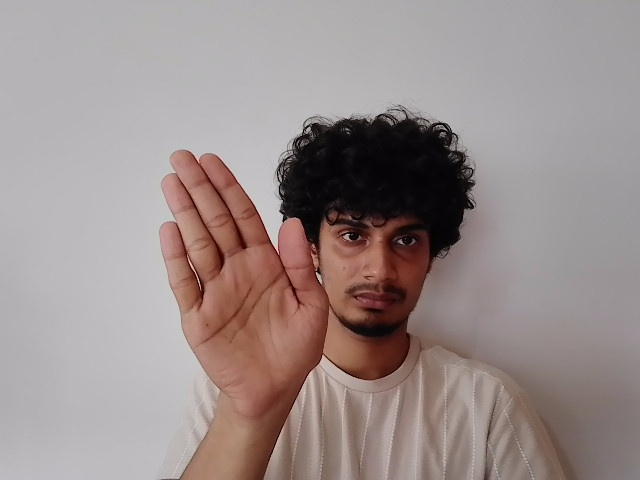hello: (161, 148, 332, 406)
